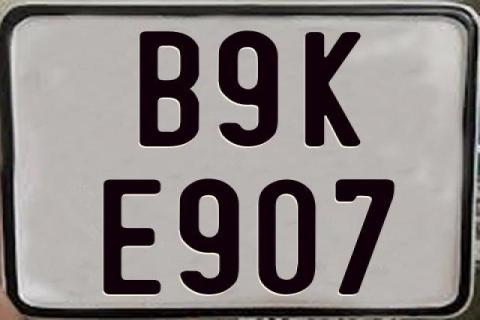0: (215, 28, 280, 148), (332, 180, 396, 300), (179, 179, 239, 295), (256, 178, 315, 294)
B: (140, 31, 205, 147)
E: (102, 177, 162, 293)
K: (302, 32, 361, 148)
